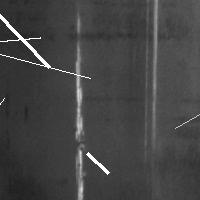scratches: (0, 4, 54, 72), (0, 49, 95, 83), (69, 13, 85, 197), (142, 1, 159, 154), (170, 91, 200, 133), (82, 148, 113, 178), (0, 33, 45, 51), (0, 93, 9, 177)
